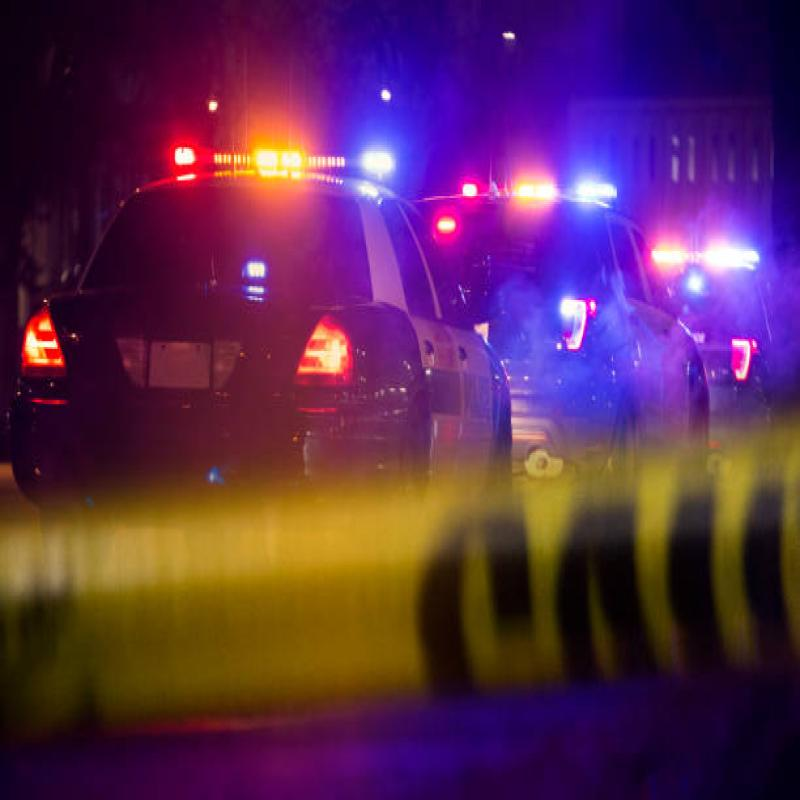AmbulanceSiren: (152, 126, 407, 185), (458, 167, 635, 204), (647, 242, 774, 282)
